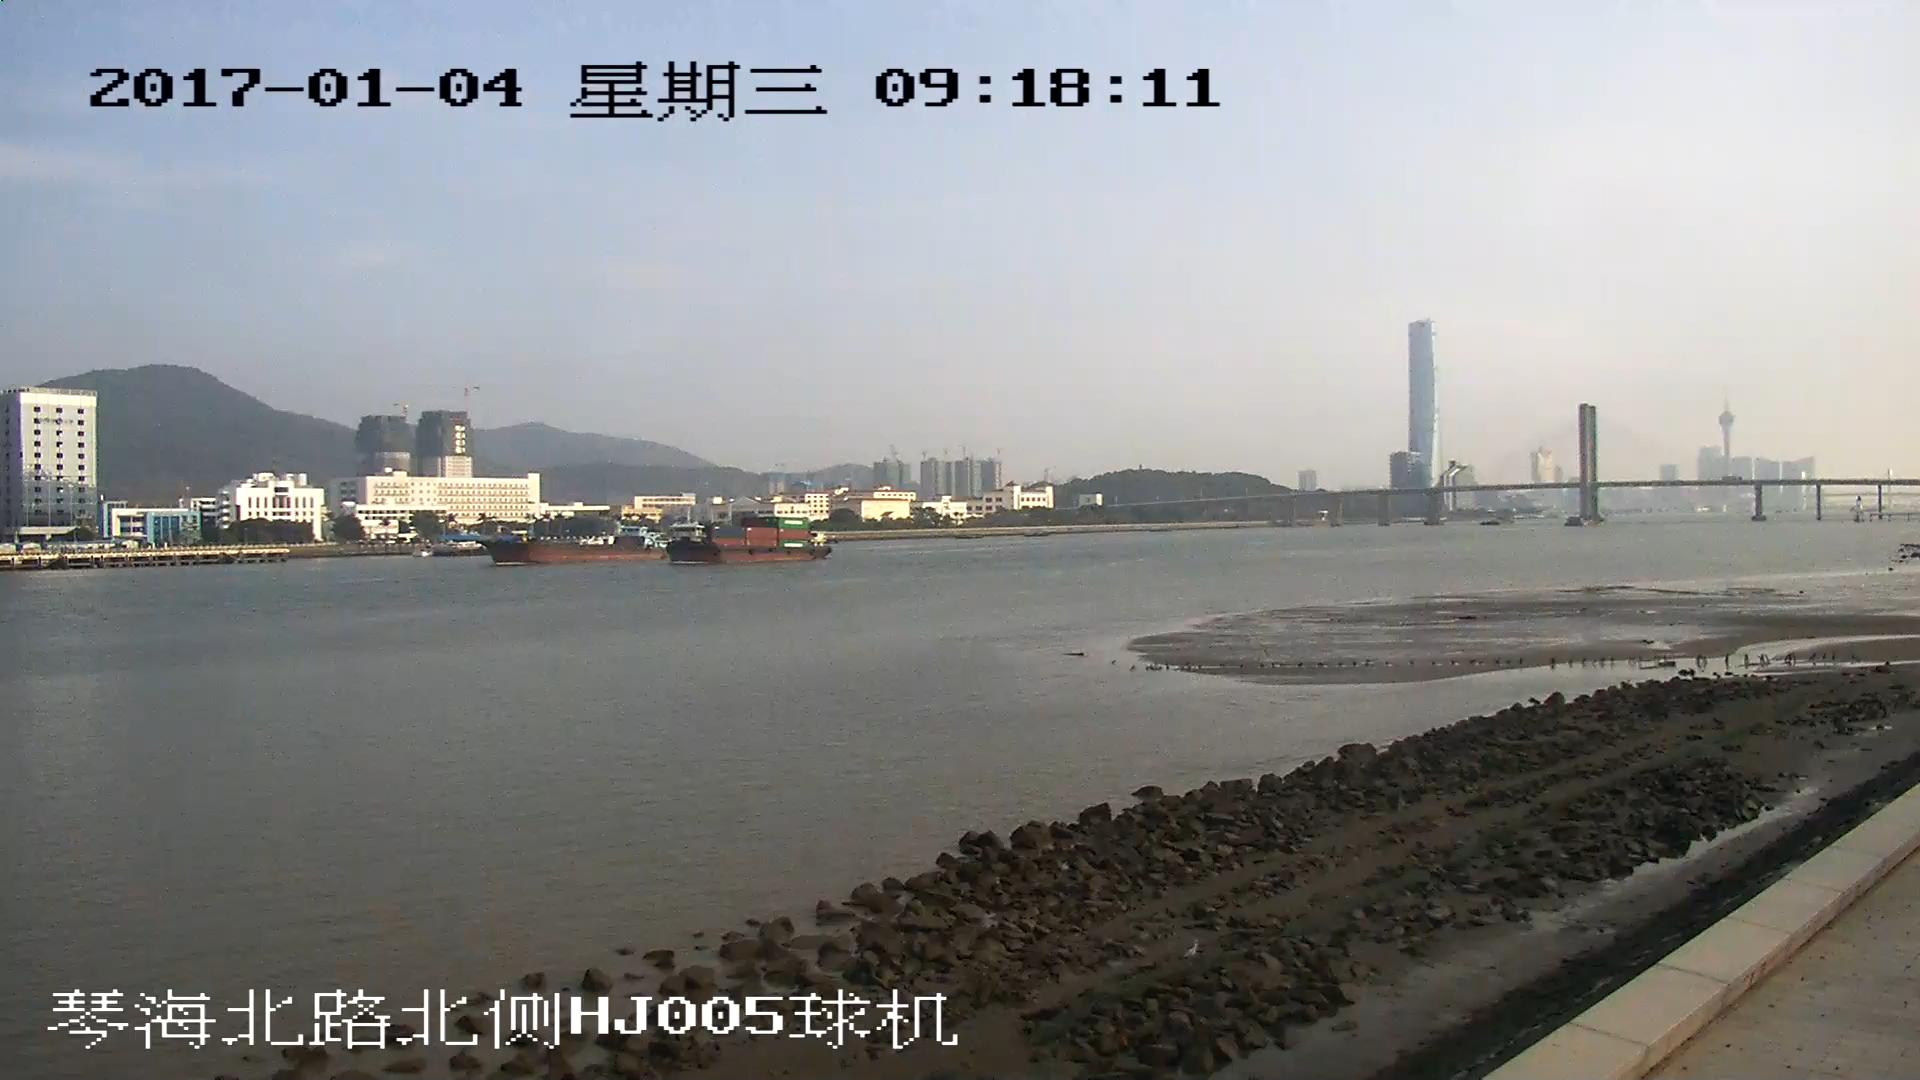bulk cargo carrier: (480, 526, 654, 565)
container ship: (663, 517, 830, 561)
